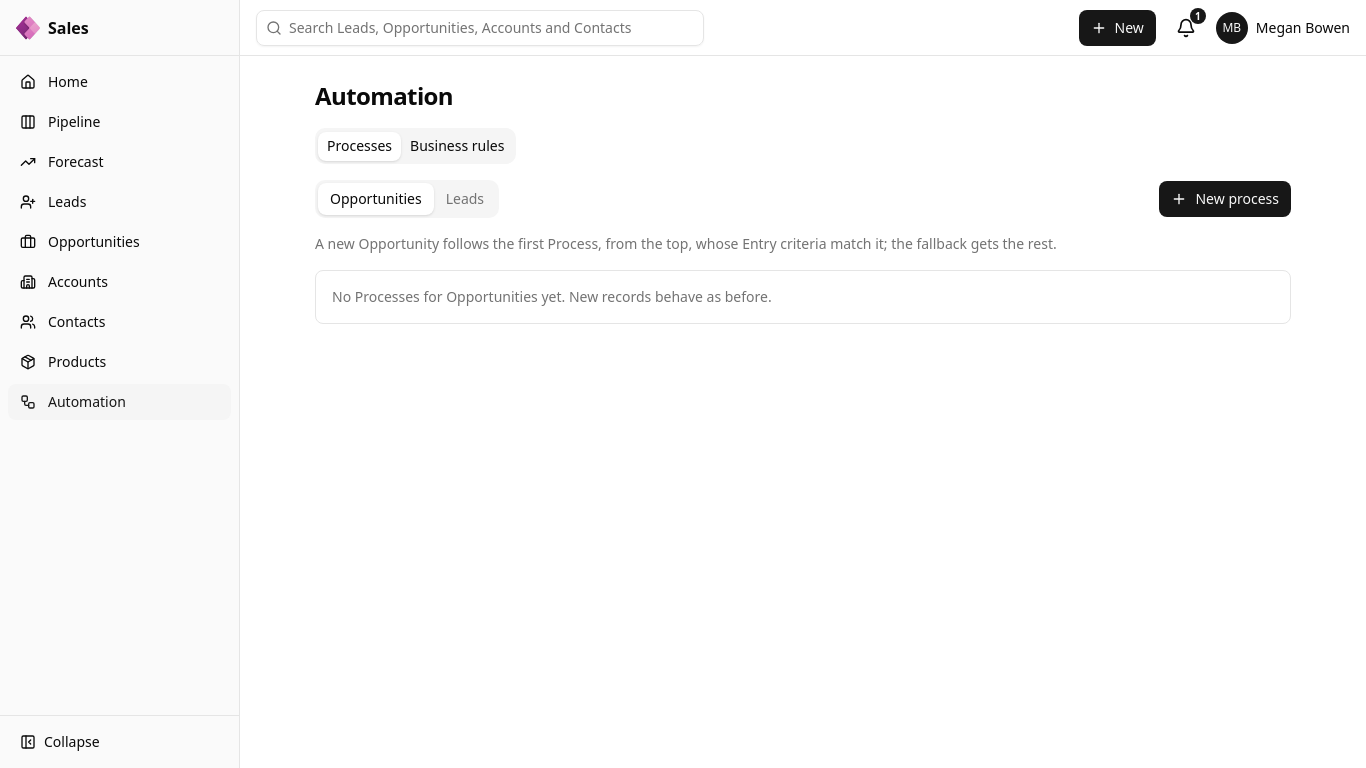
Test: the Business rules tab › shows a red Error badge on a rule the engine could not run
Click the tab "Business rules" at (457, 146), box [401,132,513,160]
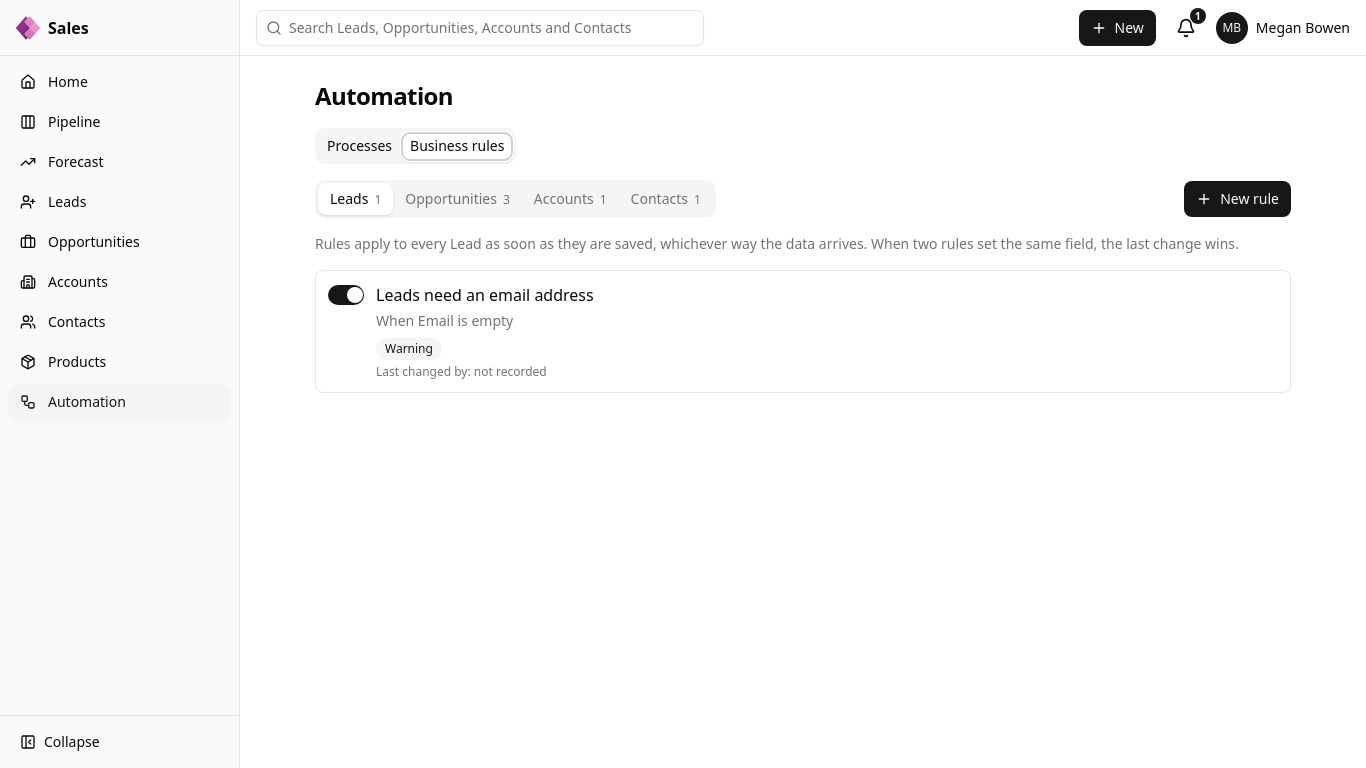
Click the button "Contacts1" at (666, 199), box [619,183,713,215]
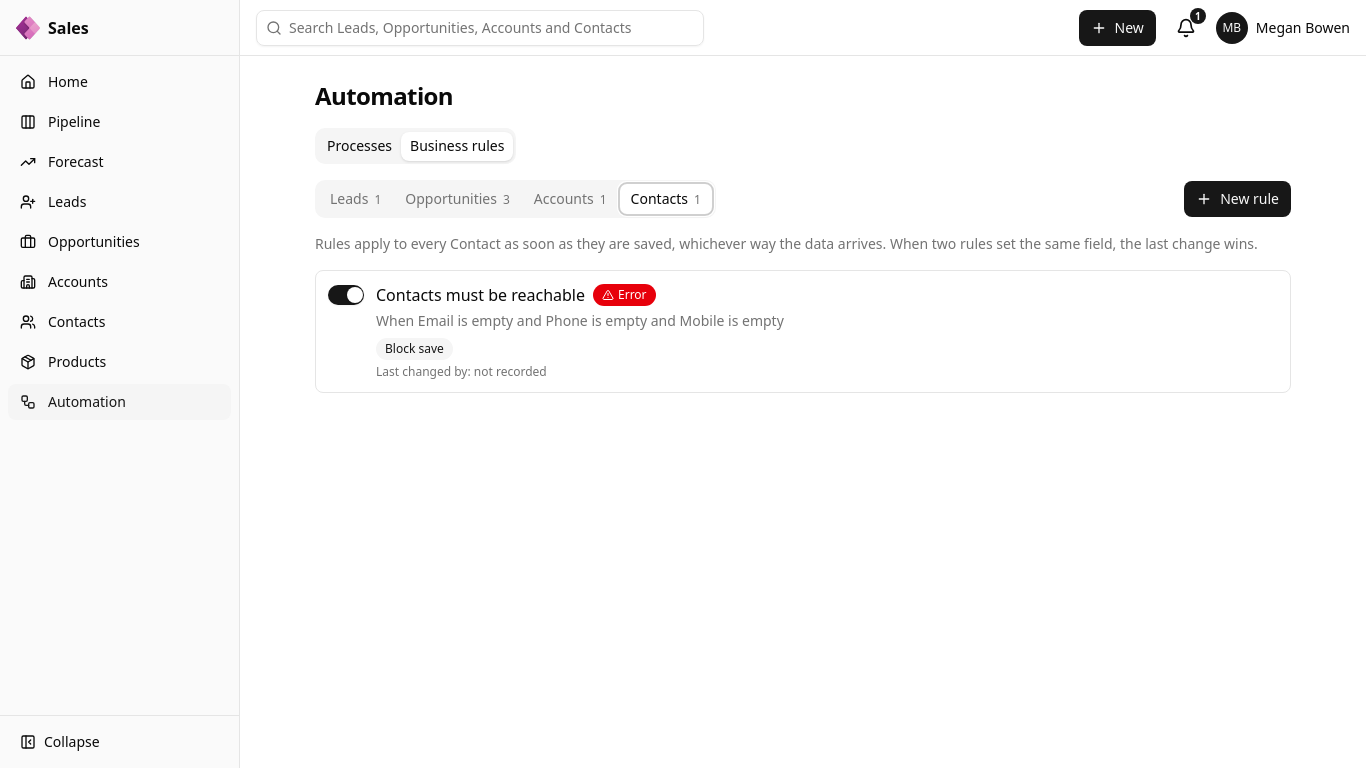
Expected: the element named "Error: 1 Engine error" is shown, [593,284,656,306]
Click the button "Contacts must be reachable" at (480, 295), box [376,283,585,307]
(page scrolled)
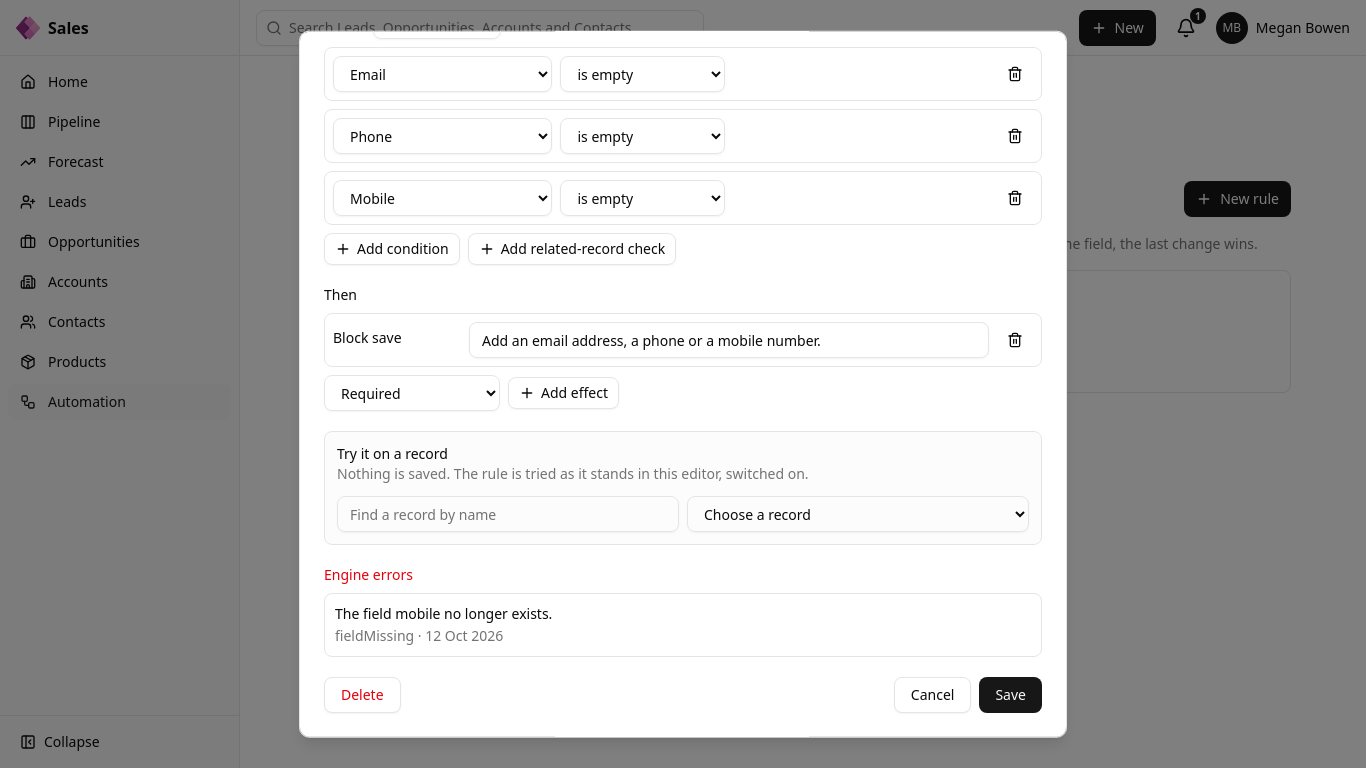
Expected: the text "The field mobile no longer exists." is shown, [335,604,552,623]
